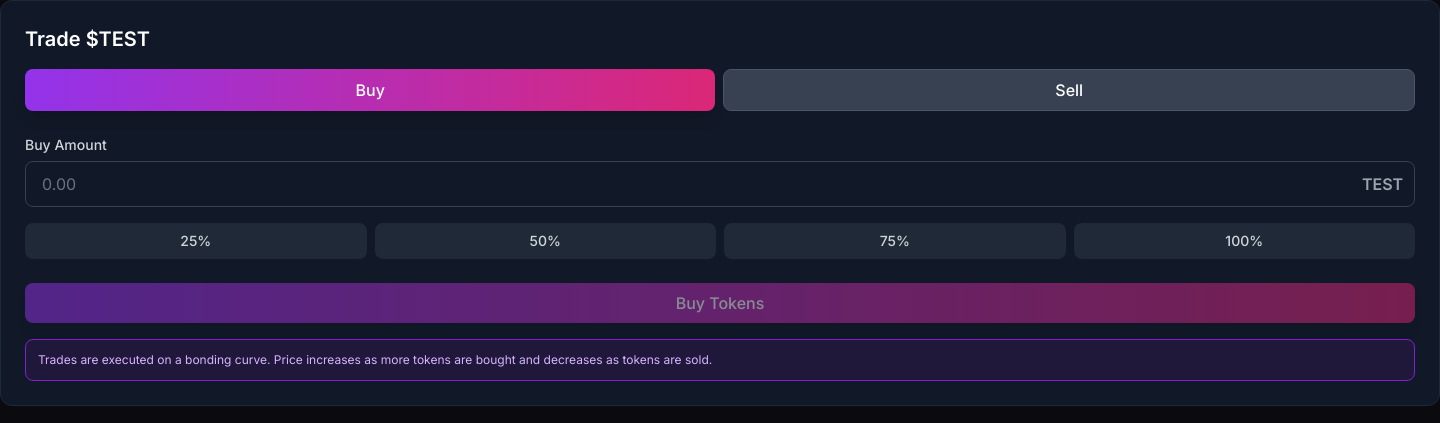
Scenario: TradingInterface › Trade Type Selection › should switch to sell mode when sell button clicked
This screenshot has width=1440, height=423.
Click the button "Sell": click(1069, 90) [724,69,1415,111]
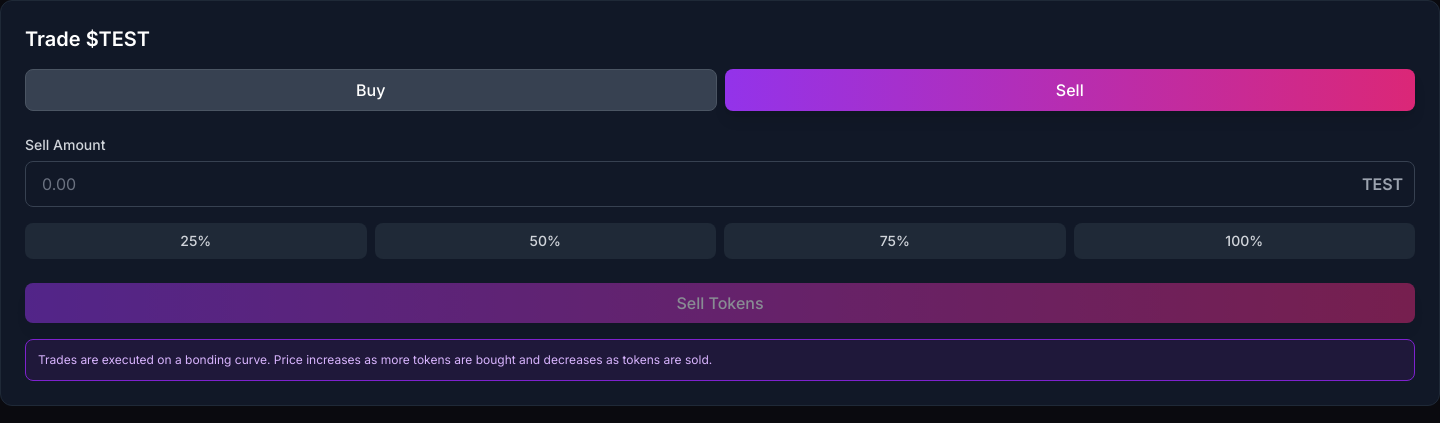
Now the text "Sell Amount" is shown, box [25,136,106,153]
